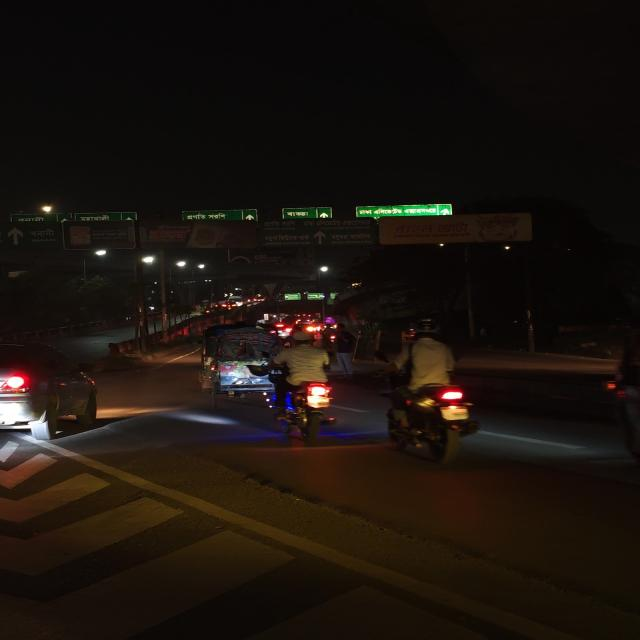car: (0, 338, 104, 444)
motorcycle: (380, 327, 487, 468), (267, 330, 341, 442)
rickshaw: (191, 322, 284, 408)
